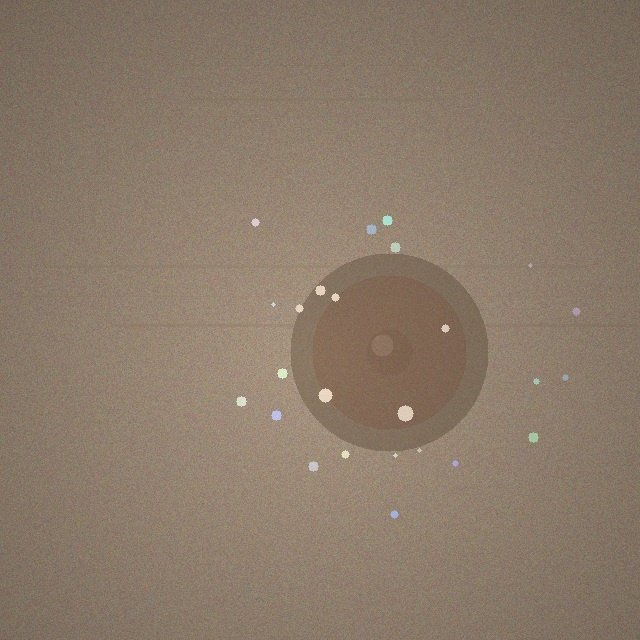overburn: (290, 253, 488, 451)
